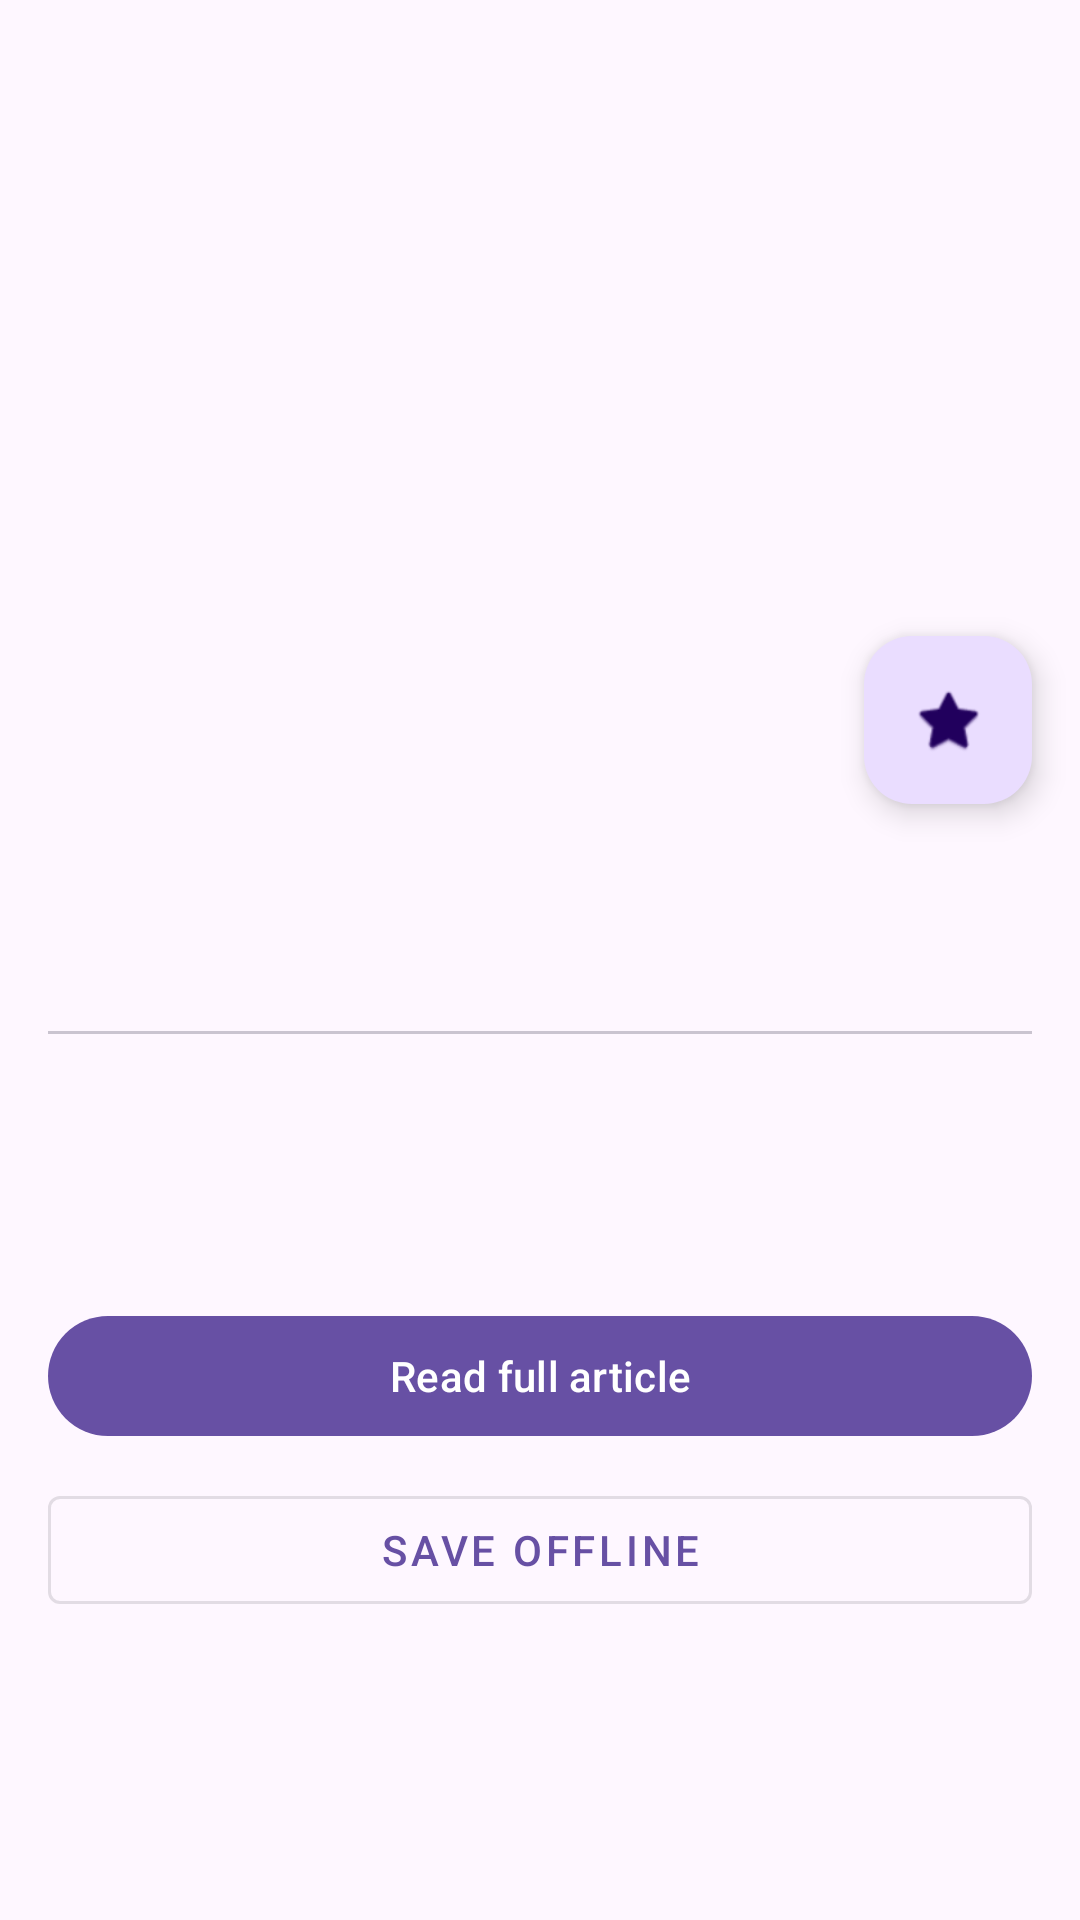

Icon click points for this 1080x1920 phone screenshot, format point (x, y):
Bookmark article: point (948, 720)
